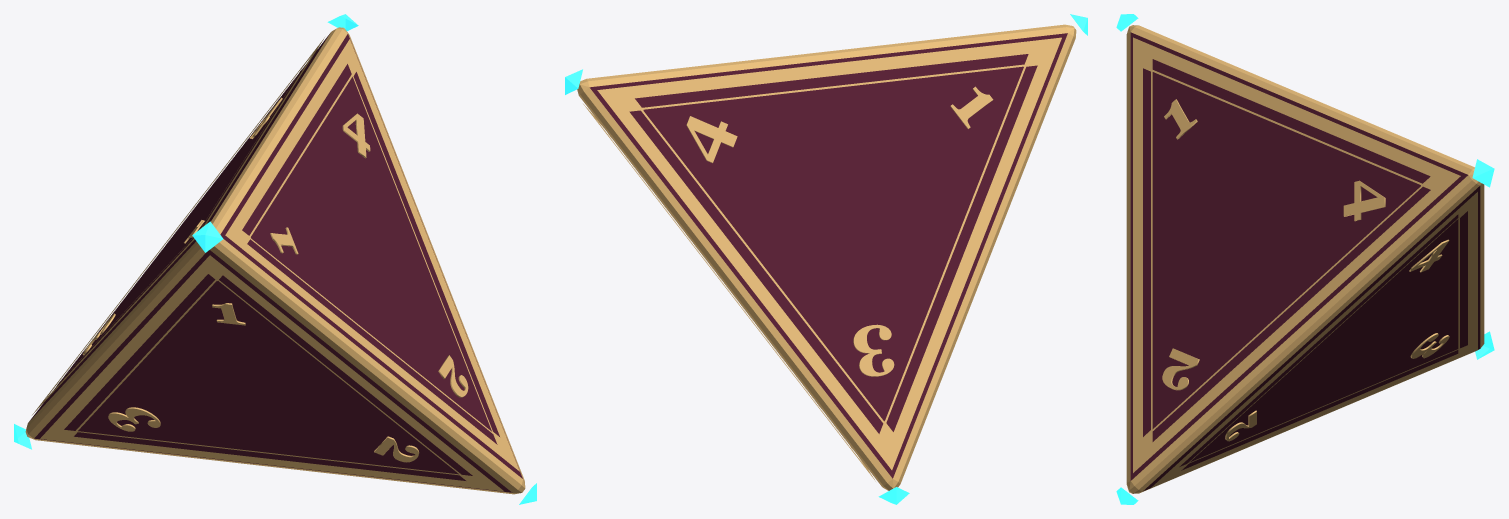
3 views of the same model, side by side, from view 1: azimuth 30°, elevation 25°; view 2: azimuth 150°, elevation 25°; view 3: azimuth 270°, elevation 25° (orthographic). The views are drawn at different scales.
Parts seen in each view (by area): view 1: D4_Body, D4_Inlay.003, D4_Inlay.002, D4_Inlay.001, D4_Jewels, D4_Number_3_Mesh.002; view 2: D4_Body, D4_Inlay.001, D4_Number_3_Mesh.001, D4_Number_4_Mesh.001, D4_Jewels, D4_Inlay, D4_Number_1_Mesh; view 3: D4_Body, D4_Inlay.002, D4_Inlay, D4_Jewels, D4_Number_4_Mesh.002, D4_Number_2_Mesh.001, D4_Number_1_Mesh.001, D4_Number_3_Mesh, D4_Number_4_Mesh.
Part boxes in pixels (left/top/right/bottom): D4_Body: left=25, top=27, right=525, bottom=494; D4_Inlay.003: left=40, top=255, right=504, bottom=491; D4_Inlay.002: left=225, top=39, right=519, bottom=471; D4_Inlay.001: left=32, top=37, right=324, bottom=414; D4_Jewels: left=14, top=14, right=536, bottom=504; D4_Number_3_Mesh.002: left=108, top=407, right=160, bottom=431; D4_Body: left=577, top=24, right=1076, bottom=490; D4_Inlay.001: left=597, top=37, right=1061, bottom=469; D4_Number_3_Mesh.001: left=853, top=324, right=894, bottom=376; D4_Number_4_Mesh.001: left=686, top=116, right=737, bottom=163; D4_Jewels: left=565, top=14, right=1087, bottom=504; D4_Inlay: left=583, top=104, right=875, bottom=481; D4_Number_1_Mesh: left=950, top=86, right=993, bottom=128; D4_Body: left=1126, top=25, right=1484, bottom=493; D4_Inlay.002: left=1133, top=37, right=1460, bottom=472; D4_Inlay: left=1150, top=192, right=1477, bottom=488; D4_Jewels: left=1116, top=14, right=1494, bottom=504; D4_Number_4_Mesh.002: left=1343, top=180, right=1385, bottom=221; D4_Number_2_Mesh.001: left=1162, top=348, right=1199, bottom=390; D4_Number_1_Mesh.001: left=1164, top=99, right=1197, bottom=139; D4_Number_3_Mesh: left=1410, top=333, right=1449, bottom=358; D4_Number_4_Mesh: left=1409, top=239, right=1449, bottom=272.
Size of what is drawn, in the model's own units: 0.8435 by 0.8511 by 0.8435.
